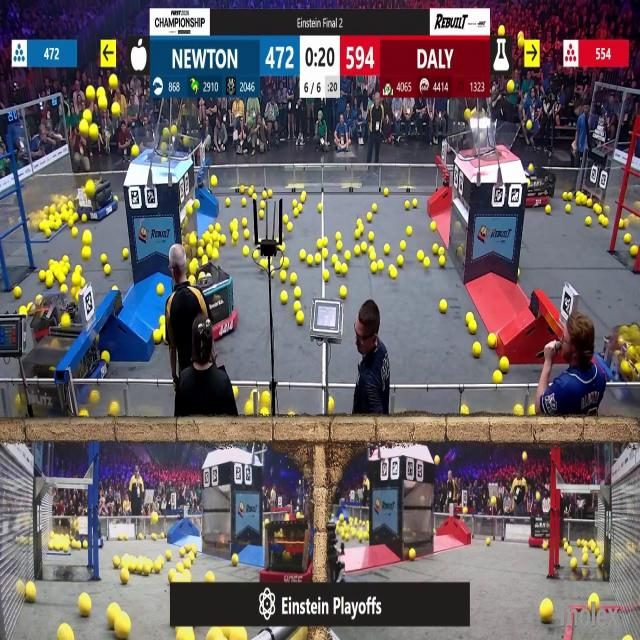ball_airborne: (80, 122, 88, 137), (91, 125, 99, 139), (109, 74, 117, 88), (88, 88, 96, 101), (132, 144, 140, 157), (82, 110, 91, 121), (99, 98, 107, 110), (111, 104, 119, 116), (506, 80, 514, 92), (518, 34, 524, 48), (98, 89, 106, 98), (498, 26, 504, 38), (526, 120, 532, 130), (183, 136, 189, 146), (162, 143, 167, 154), (172, 127, 178, 136), (491, 496, 497, 505), (464, 109, 470, 118), (523, 452, 528, 461), (165, 129, 170, 137), (536, 492, 540, 501)
ball_ground: (115, 616, 129, 639), (79, 594, 91, 616), (540, 600, 552, 621), (179, 628, 198, 640), (60, 626, 74, 640), (27, 585, 37, 603), (91, 390, 100, 404), (472, 343, 480, 358), (120, 568, 128, 583), (245, 404, 254, 417), (500, 358, 508, 372), (263, 391, 271, 405), (82, 232, 90, 245), (144, 562, 152, 575), (515, 407, 524, 418), (441, 300, 448, 314), (489, 335, 496, 349), (494, 372, 502, 384), (82, 247, 90, 259), (110, 404, 118, 416), (295, 313, 303, 325), (102, 351, 110, 363), (154, 560, 162, 572), (72, 275, 80, 287), (207, 245, 214, 258), (206, 571, 215, 581), (341, 286, 348, 298), (410, 550, 417, 562), (13, 286, 20, 298), (293, 287, 300, 299), (119, 556, 126, 568), (100, 253, 108, 263), (460, 407, 468, 417), (252, 249, 260, 259), (594, 205, 602, 215), (183, 571, 191, 581), (203, 232, 211, 242), (262, 258, 270, 268), (154, 332, 160, 345), (327, 397, 333, 410), (290, 274, 297, 285), (529, 407, 536, 418), (631, 246, 638, 257), (281, 291, 288, 302), (389, 268, 396, 279), (396, 255, 403, 266), (45, 277, 52, 288), (59, 274, 66, 285), (468, 322, 475, 333), (171, 571, 178, 582), (188, 235, 195, 246), (233, 554, 239, 566), (114, 556, 120, 568), (466, 312, 473, 322), (243, 246, 250, 256), (104, 266, 111, 276), (440, 256, 447, 266), (570, 559, 577, 569), (315, 253, 322, 263), (354, 246, 361, 256), (211, 176, 218, 186), (177, 562, 184, 572), (198, 247, 205, 257), (360, 243, 367, 253), (122, 248, 128, 259), (323, 271, 329, 282), (370, 264, 376, 275), (308, 253, 314, 264), (280, 272, 286, 283), (283, 256, 289, 267), (159, 284, 165, 295), (418, 250, 424, 261), (73, 540, 81, 548), (316, 240, 323, 249), (384, 244, 390, 254), (354, 230, 360, 240), (298, 250, 304, 260), (625, 234, 631, 244), (293, 303, 299, 313), (72, 229, 78, 239), (407, 225, 413, 235), (379, 262, 385, 272), (602, 216, 608, 226), (336, 264, 342, 274), (342, 266, 348, 276), (345, 250, 351, 260), (219, 234, 225, 244), (322, 248, 328, 258), (596, 557, 602, 567), (589, 600, 594, 612), (193, 200, 199, 210), (212, 233, 218, 243), (64, 264, 70, 274), (80, 411, 87, 419), (183, 560, 190, 568), (591, 594, 598, 602), (262, 410, 270, 417), (244, 231, 250, 240), (242, 218, 248, 227), (587, 216, 593, 225), (367, 233, 373, 242), (331, 253, 337, 262), (258, 210, 264, 219), (166, 552, 172, 561), (19, 307, 25, 316), (322, 238, 328, 247), (180, 549, 186, 558), (82, 539, 88, 548), (566, 204, 572, 213), (369, 251, 375, 260), (186, 206, 192, 215), (317, 204, 323, 213), (587, 199, 593, 208), (296, 205, 302, 214), (432, 244, 437, 254), (338, 242, 343, 252), (424, 257, 429, 267), (39, 272, 44, 282), (215, 222, 220, 232), (234, 387, 239, 397), (584, 555, 589, 565), (299, 192, 304, 202), (620, 218, 625, 228), (76, 266, 82, 274), (161, 316, 167, 324), (403, 202, 409, 210), (259, 201, 265, 209), (62, 284, 68, 292), (187, 553, 193, 561), (191, 258, 197, 266), (430, 221, 435, 230), (366, 212, 371, 221), (293, 208, 298, 217), (371, 204, 376, 213), (575, 198, 580, 207), (567, 546, 572, 555), (203, 254, 208, 263), (191, 543, 196, 552), (596, 599, 600, 610), (63, 255, 69, 262), (292, 201, 298, 208), (440, 248, 446, 255), (400, 241, 404, 251), (545, 206, 550, 214), (242, 200, 247, 208), (234, 233, 239, 241), (81, 214, 86, 222), (337, 233, 342, 241), (287, 222, 292, 230), (281, 244, 286, 252), (413, 200, 418, 208), (269, 189, 274, 197), (563, 191, 568, 199), (487, 537, 492, 545), (567, 191, 572, 199), (80, 279, 84, 288), (28, 305, 32, 314), (283, 215, 288, 222), (252, 193, 257, 200), (233, 240, 238, 247), (542, 542, 547, 549), (356, 218, 361, 225), (36, 294, 41, 301), (234, 218, 239, 225), (225, 199, 229, 207), (384, 188, 388, 196), (209, 224, 213, 232), (72, 286, 76, 294), (162, 532, 166, 540), (140, 533, 144, 540), (626, 636, 632, 640), (123, 534, 127, 540), (152, 534, 156, 540)
goal: (466, 122, 520, 160)
robot_blue: (598, 321, 640, 404), (76, 175, 118, 222)
robot_red: (184, 262, 239, 342), (262, 519, 310, 585), (525, 164, 555, 206), (529, 516, 550, 547)
